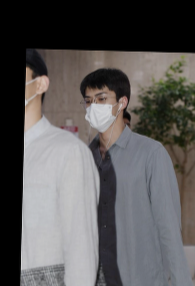with_mask: (84, 89, 119, 134)
